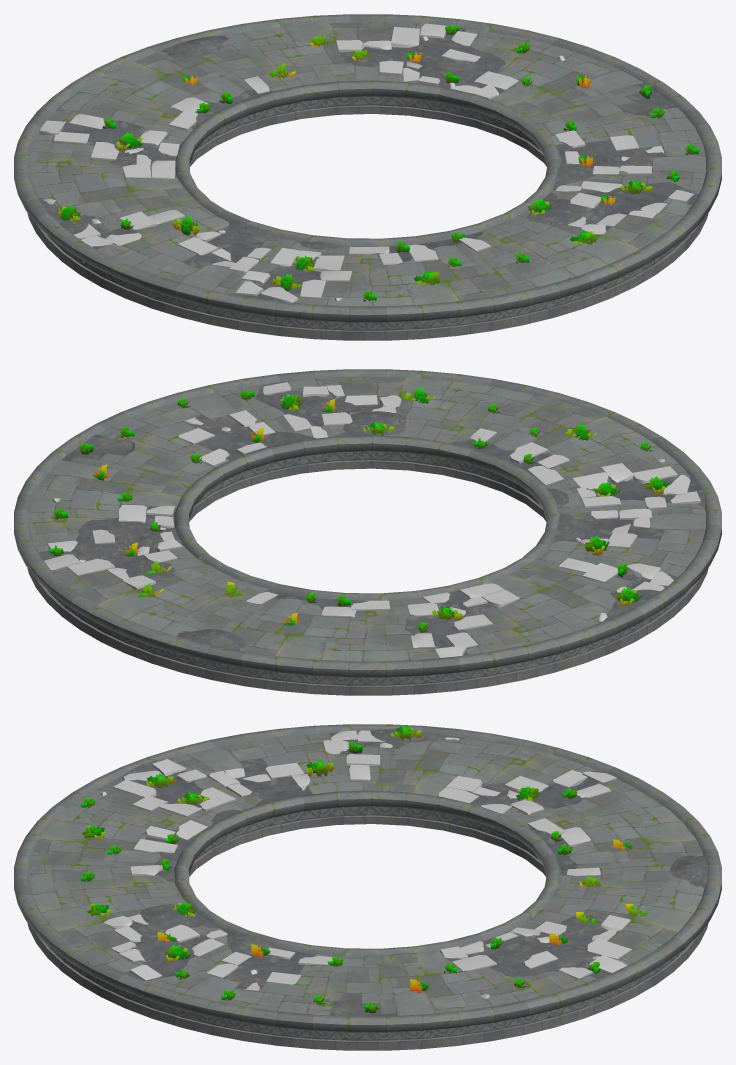
Rendered from Area_MdBuild_SdFloor01_Group.fbx.
3 renders of one model, top to bottom at view 1: azimuth 30°, elevation 25°; view 2: azimuth 150°, elevation 25°; view 3: azimuth 270°, elevation 25°, orthographic.
Visible parts, largest first — view 1: Area_MdBuild_SdFloor01_Lod0; view 2: Area_MdBuild_SdFloor01_Lod0; view 3: Area_MdBuild_SdFloor01_Lod0.
Part boxes in pixels (x1,y1,x2,y2): Area_MdBuild_SdFloor01_Lod0: (14,14,721,340); Area_MdBuild_SdFloor01_Lod0: (14,369,721,695); Area_MdBuild_SdFloor01_Lod0: (14,724,721,1050).
Bounding box in the file's own units: 36.56 × 2.64 × 36.56.
